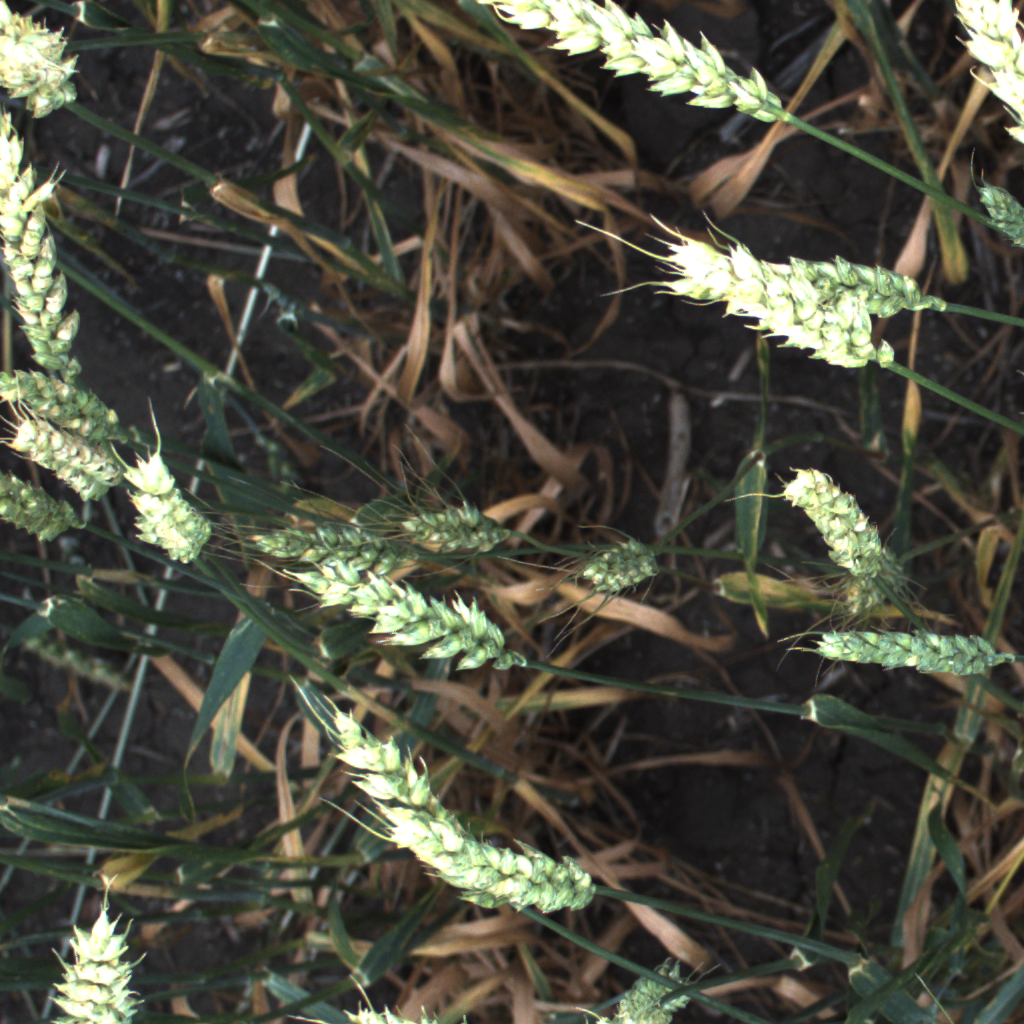wheat_head: (462, 0, 811, 140), (643, 226, 906, 383), (316, 694, 523, 885), (272, 544, 536, 687), (0, 107, 86, 392), (39, 868, 159, 1024), (767, 455, 903, 589), (422, 818, 597, 917), (741, 247, 962, 324), (808, 613, 1012, 689), (0, 404, 134, 514), (940, 0, 1024, 153), (0, 362, 141, 451), (0, 0, 95, 118), (129, 454, 223, 568), (394, 485, 528, 560), (247, 509, 402, 572), (599, 946, 714, 1024), (0, 464, 93, 554), (968, 163, 1024, 252), (578, 538, 665, 586), (839, 584, 881, 614)
